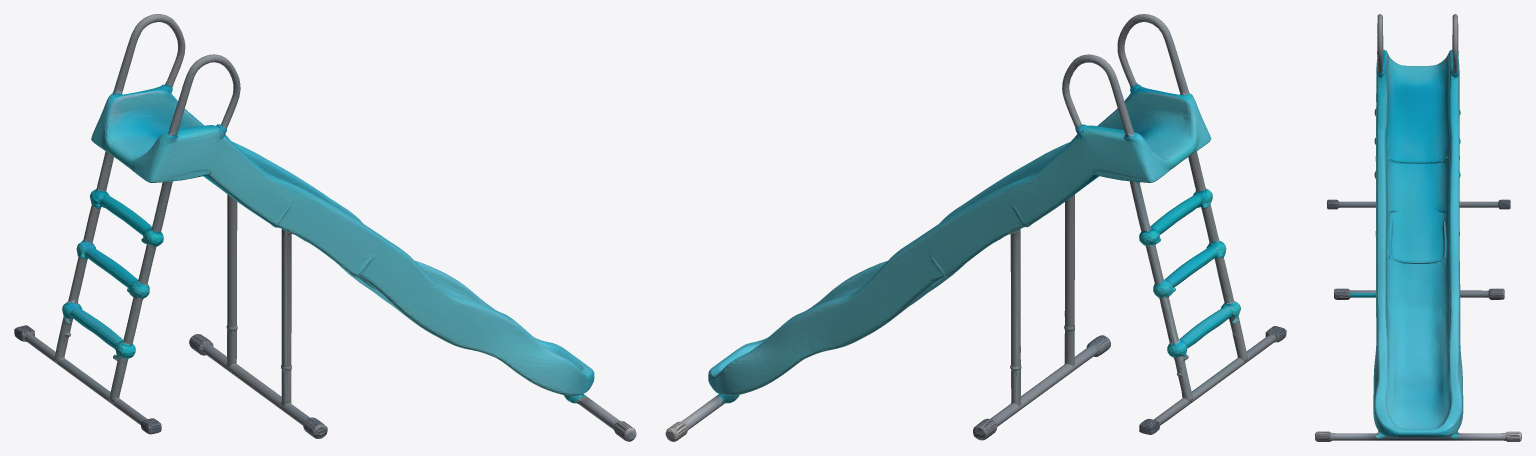
File: playground+slide+3d+model.glb
3 renders of one model, left to right at view 1: azimuth 30°, elevation 25°; view 2: azimuth 150°, elevation 25°; view 3: azimuth 270°, elevation 25°, orthographic. The views are drawn at different scales.
Visible parts, largest first — view 1: tripo_node_124fe369-9bcc-4285-a7e4-2270afdbc241; view 2: tripo_node_124fe369-9bcc-4285-a7e4-2270afdbc241; view 3: tripo_node_124fe369-9bcc-4285-a7e4-2270afdbc241.
Boxes of the visible parts, x1,y1,x2,y2 form: tripo_node_124fe369-9bcc-4285-a7e4-2270afdbc241: [14, 14, 636, 441]; tripo_node_124fe369-9bcc-4285-a7e4-2270afdbc241: [665, 14, 1286, 441]; tripo_node_124fe369-9bcc-4285-a7e4-2270afdbc241: [1315, 14, 1521, 441].
Size of the model in its own units: 0.9999 by 0.854 by 0.5309.
Materials: 1 (1 with a texture image).
